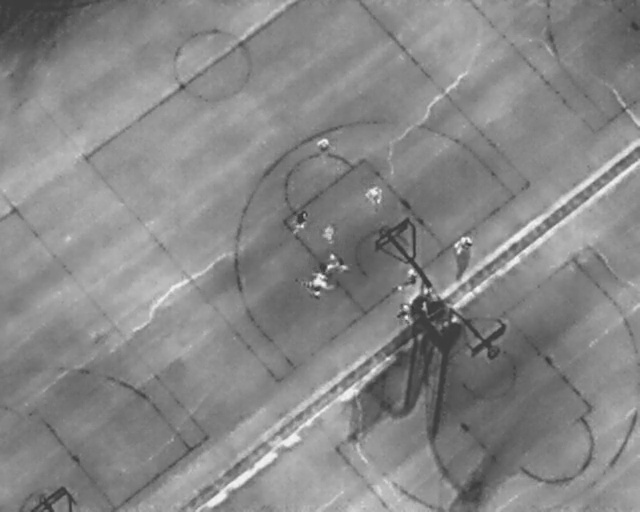Person: (307, 268, 332, 303), (365, 183, 383, 207), (327, 252, 347, 273), (456, 232, 473, 252), (397, 300, 410, 324), (294, 209, 307, 232), (316, 136, 328, 157), (325, 224, 335, 246)
